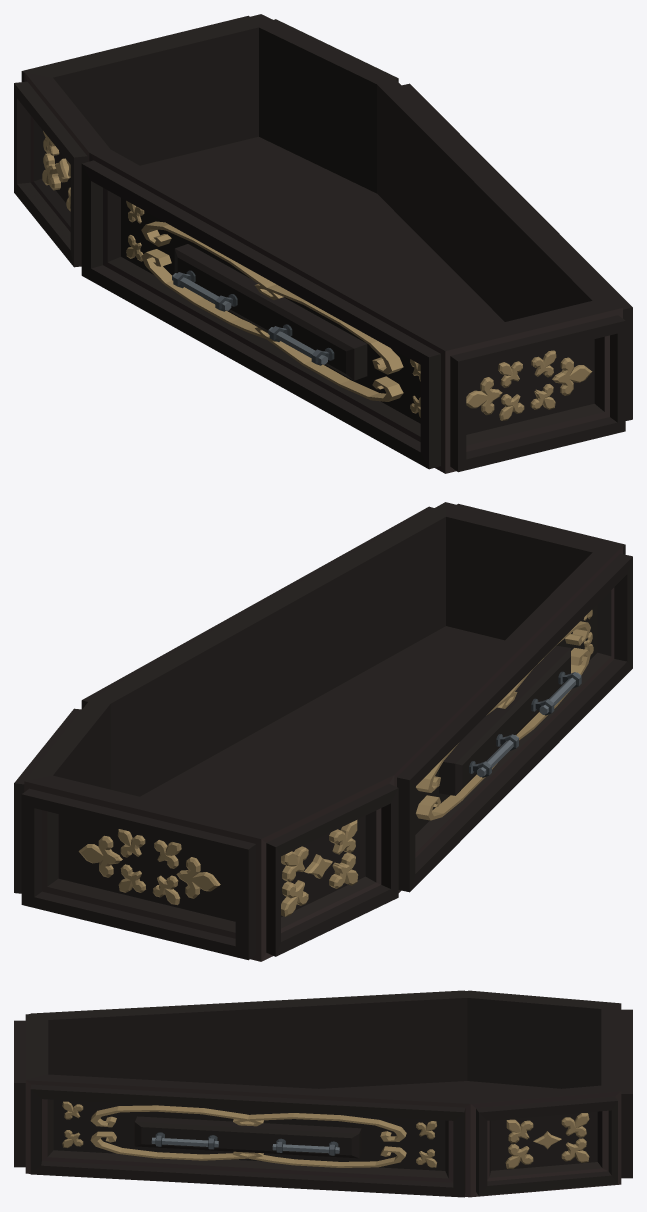
Rendered from WF_LP_HT_Props_Coffin.004.fbx.
The picture shows the model from 3 angles, top to bottom: view 1: azimuth 30°, elevation 25°; view 2: azimuth 150°, elevation 25°; view 3: azimuth 270°, elevation 25°; orthographic projection. The views are drawn at different scales.
Parts seen in each view (by area): view 1: WF_LP_HT_Props_Coffin.004; view 2: WF_LP_HT_Props_Coffin.004; view 3: WF_LP_HT_Props_Coffin.004.
Part boxes in pixels (x1=…): WF_LP_HT_Props_Coffin.004: x1=14, y1=14, x2=632, y2=473; WF_LP_HT_Props_Coffin.004: x1=14, y1=502, x2=632, y2=961; WF_LP_HT_Props_Coffin.004: x1=14, y1=990, x2=632, y2=1197.
Bounding box in the file's own units: 1.11 × 0.3965 × 2.38.
